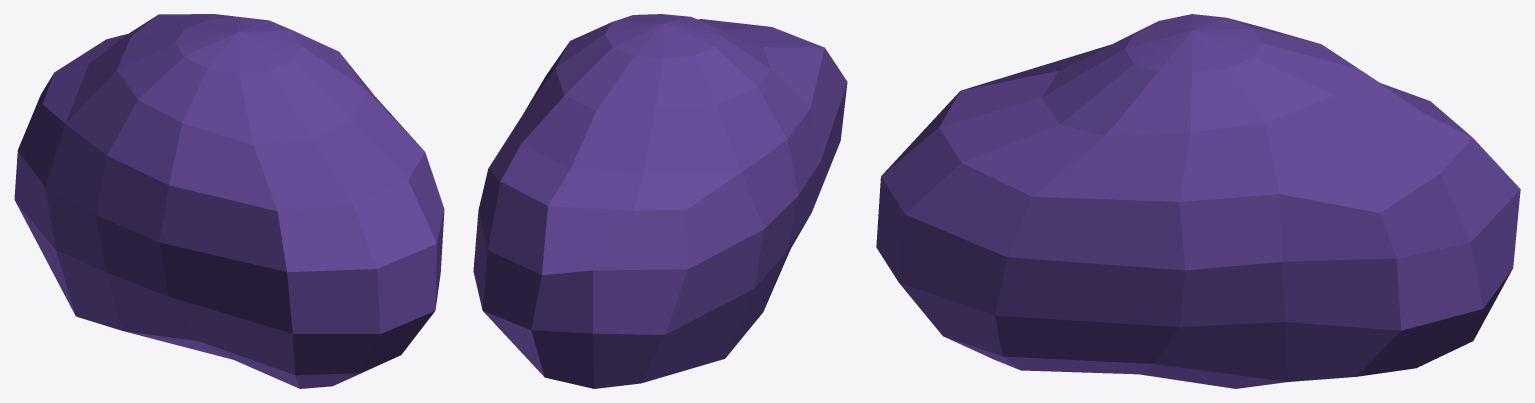
Rendered from bush (1).fbx.
3 renders of one model, left to right at view 1: azimuth 30°, elevation 25°; view 2: azimuth 150°, elevation 25°; view 3: azimuth 270°, elevation 25°, orthographic. The views are drawn at different scales.
Visible parts, largest first — view 1: Sphere; view 2: Sphere; view 3: Sphere.
Boxes of the visible parts, x1=… form: Sphere: x1=14, y1=14, x2=444, y2=388; Sphere: x1=473, y1=14, x2=847, y2=388; Sphere: x1=876, y1=14, x2=1520, y2=388.
Size of the model in its own units: 70.92 by 68.63 by 123.
